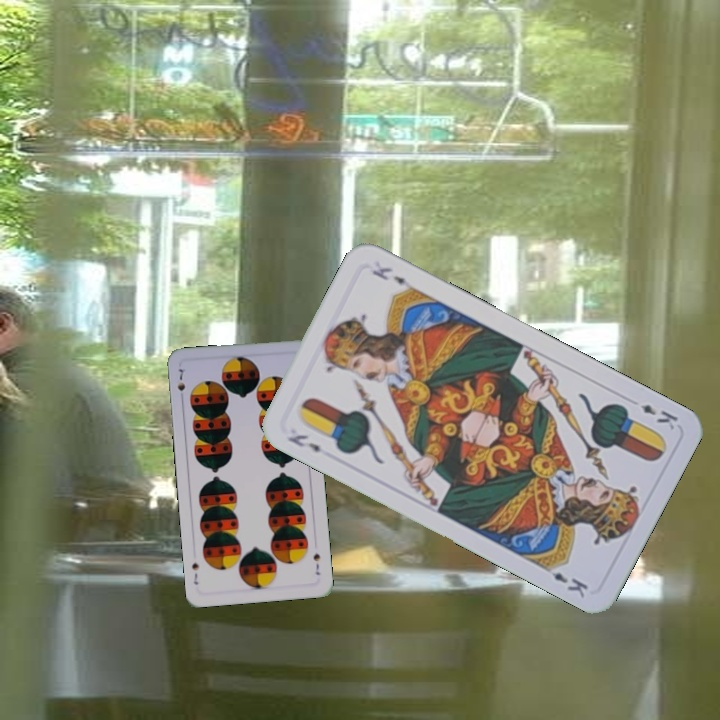EK: (636, 400, 681, 433), (283, 430, 324, 455)
S7: (173, 365, 188, 403), (309, 549, 323, 577)
